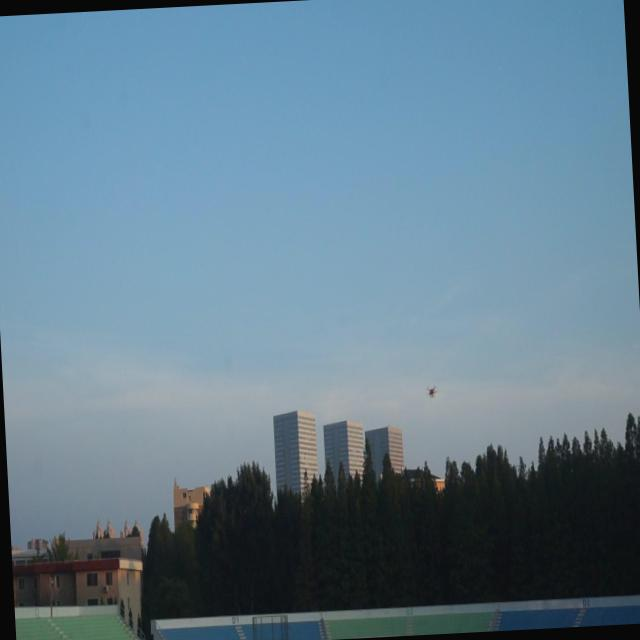drone: (426, 382, 438, 400)
